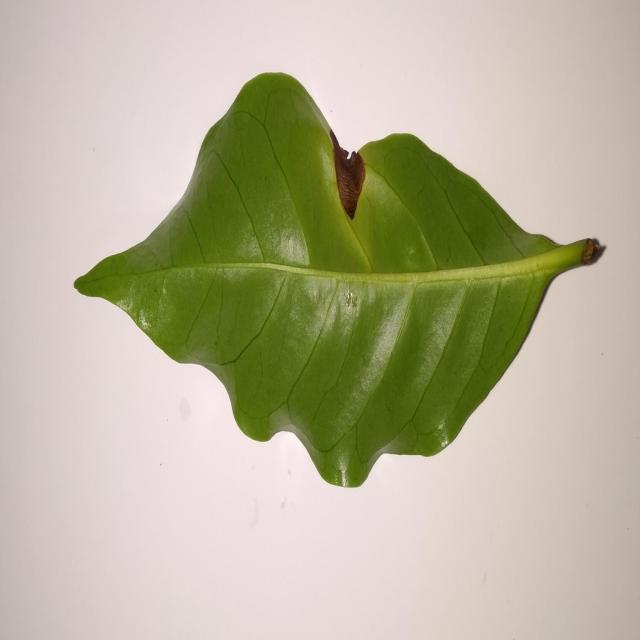phoma: (326, 122, 366, 219)
